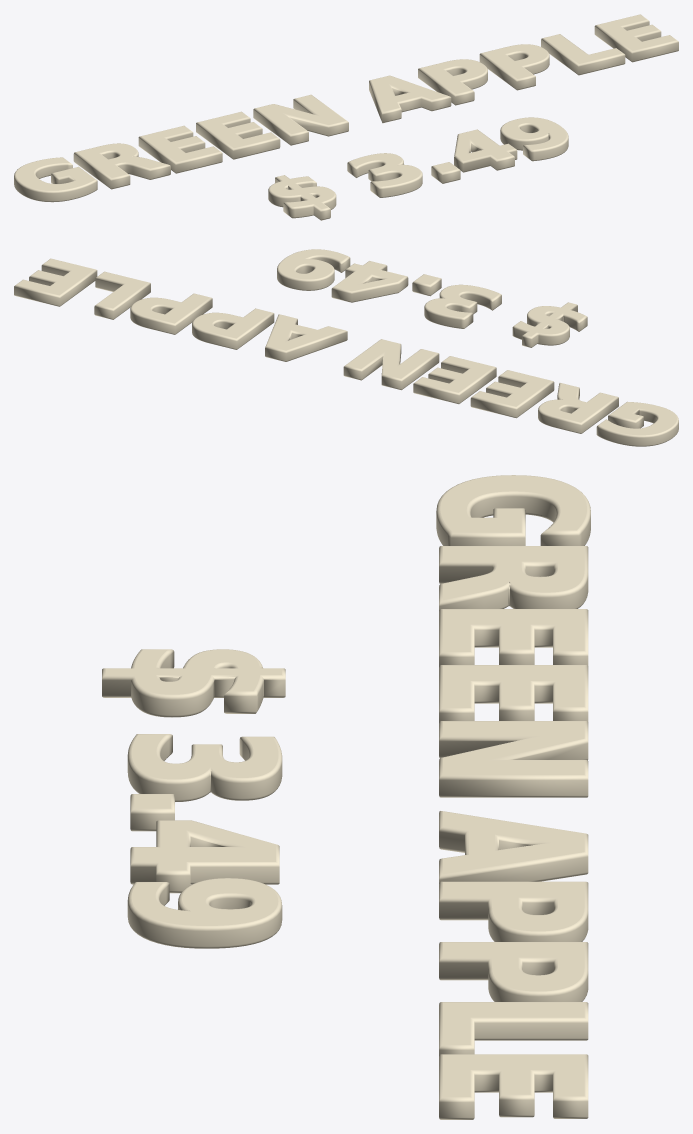
Rendered from SM_EG_Produce_price_0ac49d25fc.fbx.
3 views of the same model, one above another, from view 1: azimuth 30°, elevation 25°; view 2: azimuth 150°, elevation 25°; view 3: azimuth 270°, elevation 25° (orthographic). The views are drawn at different scales.
Visible parts, largest first — view 1: SM_EG_Produce_price_0ac49d25fc; view 2: SM_EG_Produce_price_0ac49d25fc; view 3: SM_EG_Produce_price_0ac49d25fc.
Part boxes in pixels (x1,y1,x2,y2): SM_EG_Produce_price_0ac49d25fc: (14,14,678,220); SM_EG_Produce_price_0ac49d25fc: (14,249,678,446); SM_EG_Produce_price_0ac49d25fc: (102,475,590,1119).
Bounding box in the file's own units: 26.35 × 8.72 × 0.44.
